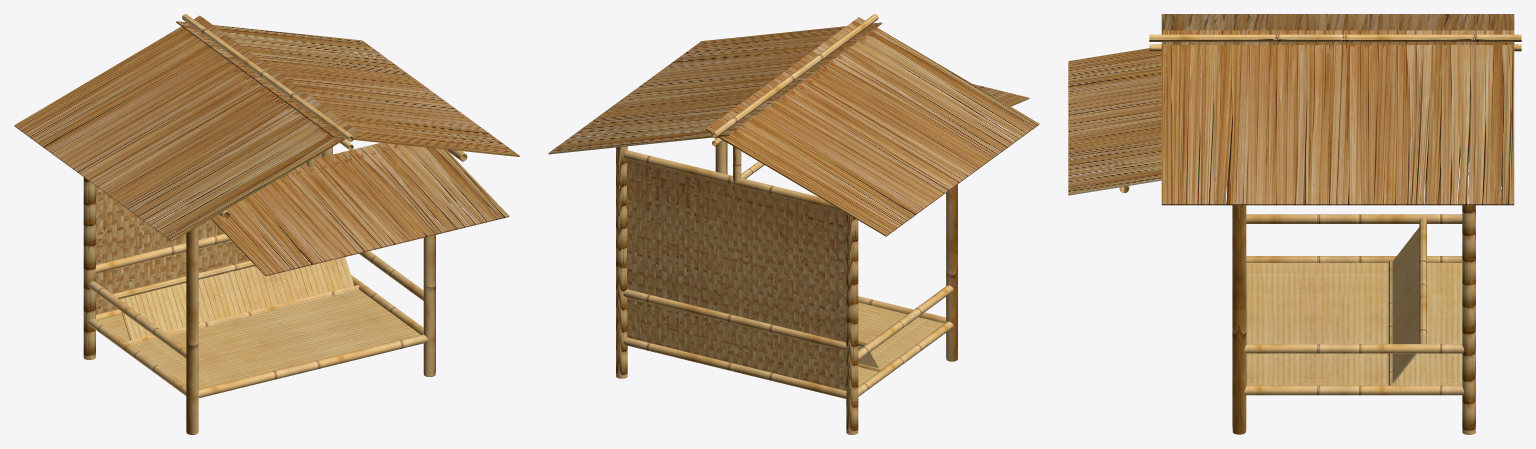
The picture shows the model from 3 angles, left to right: view 1: azimuth 30°, elevation 25°; view 2: azimuth 150°, elevation 25°; view 3: azimuth 270°, elevation 25°; orthographic projection. The views are drawn at different scales.
Visible parts, largest first — view 1: Plane.006_3, Plane.004_5, Plane.005_4, Plane_10, Plane.001_8, Plane.002_7, Cylinder.014_23, Cylinder.015_21, Cylinder.023_24, Cylinder.020_17, Cylinder.017_20, Cylinder.031_2 (+3 smaller); view 2: Plane.002_7, Plane.006_3, Plane.005_4, Cylinder.015_21, Plane_10, Cylinder.014_23, Cylinder.019_18, Cylinder.018_19, Cylinder.021_16, Cylinder.031_2, Cylinder.017_20, Cylinder.020_17 (+1 smaller); view 3: Plane.005_4, Plane_10, Plane.004_5, Plane.006_3, Cylinder.020_17, Cylinder.017_20, Cylinder.014_23, Plane.001_8, Cylinder.015_21, Cylinder.031_2, Cylinder.029_6, Cylinder.028_9.
Boxes of the visible parts, x1,y1,x2,y2 form: Plane.006_3: (14,15,357,241); Plane.004_5: (211,142,509,276); Plane.005_4: (176,21,519,156); Plane_10: (97,289,420,389); Plane.001_8: (119,257,353,340); Plane.002_7: (96,153,321,314); Cylinder.014_23: (186,226,435,434); Cylinder.015_21: (83,147,332,359); Cylinder.023_24: (198,334,427,397); Cylinder.020_17: (88,251,423,358); Cylinder.017_20: (88,275,423,395); Cylinder.031_2: (182,14,353,141); Plane.002_7: (627,159,846,390); Plane.006_3: (706,17,1039,236); Plane.005_4: (548,22,882,154); Cylinder.015_21: (616,146,858,434); Plane_10: (858,302,944,386); Cylinder.014_23: (715,137,957,361); Cylinder.019_18: (623,289,846,350); Cylinder.018_19: (623,337,846,398); Cylinder.021_16: (623,150,842,211); Cylinder.031_2: (711,14,878,138); Cylinder.017_20: (858,321,953,396); Cylinder.020_17: (858,285,953,360); Plane.005_4: (1161,30,1514,205); Plane_10: (1246,263,1462,385); Plane.004_5: (1068,48,1161,195); Plane.006_3: (1161,14,1514,44); Cylinder.020_17: (1244,214,1464,353); Cylinder.017_20: (1244,256,1464,395); Cylinder.014_23: (1232,205,1246,434); Plane.001_8: (1392,227,1419,383); Cylinder.015_21: (1462,205,1475,434); Cylinder.031_2: (1149,34,1521,41); Cylinder.029_6: (1419,217,1426,343); Cylinder.028_9: (1388,258,1396,385).
Bounding box in the file's own units: 2.93 × 2.39 × 2.96.
Materials: 7 (4 with a texture image).
